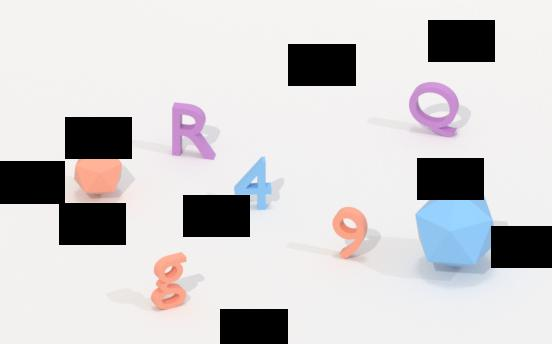4: (233, 155, 273, 213)
9: (332, 205, 369, 268)
R-hoa: (171, 99, 218, 162)
dagiac: (413, 186, 498, 274), (72, 147, 123, 198)
g: (149, 250, 189, 312)
q: (407, 79, 461, 141)
